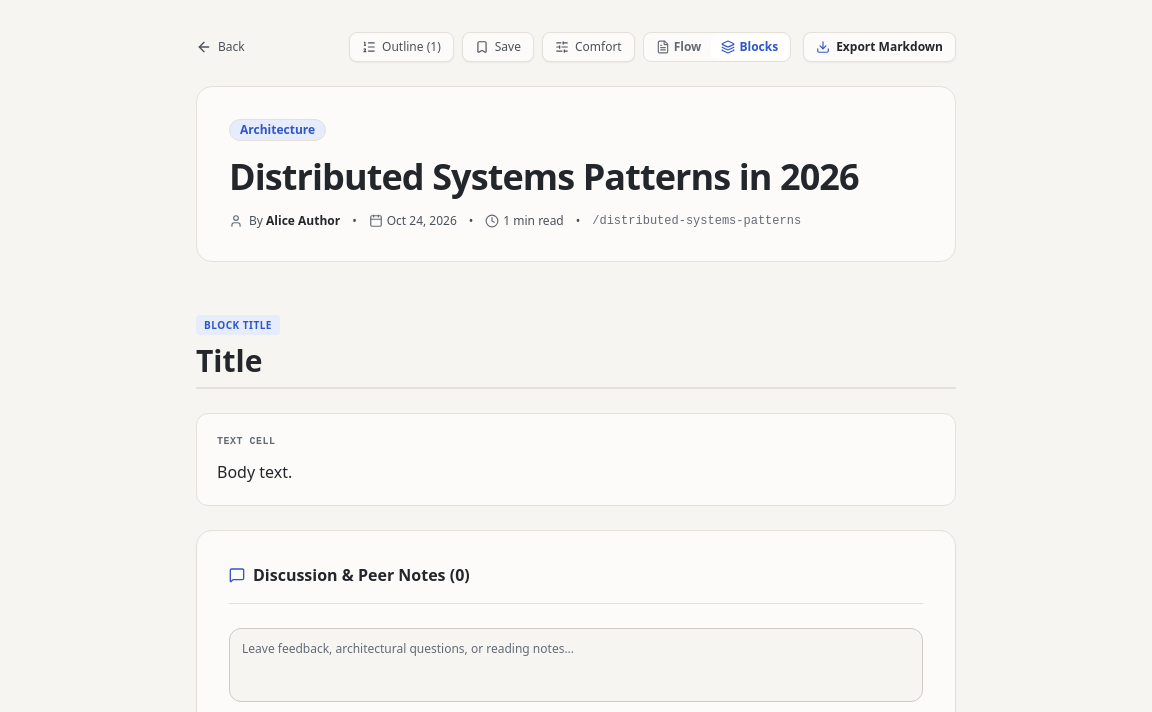
it: Phase C & E: Knowledge Catalog & Reader View Suite › ReaderView Component › toggles comfort preferences bar and typeface
This screenshot has width=1152, height=712.
Click the button titled "Reading Preferences". click: (588, 47)
box: x1=542 y1=32 x2=635 y2=62
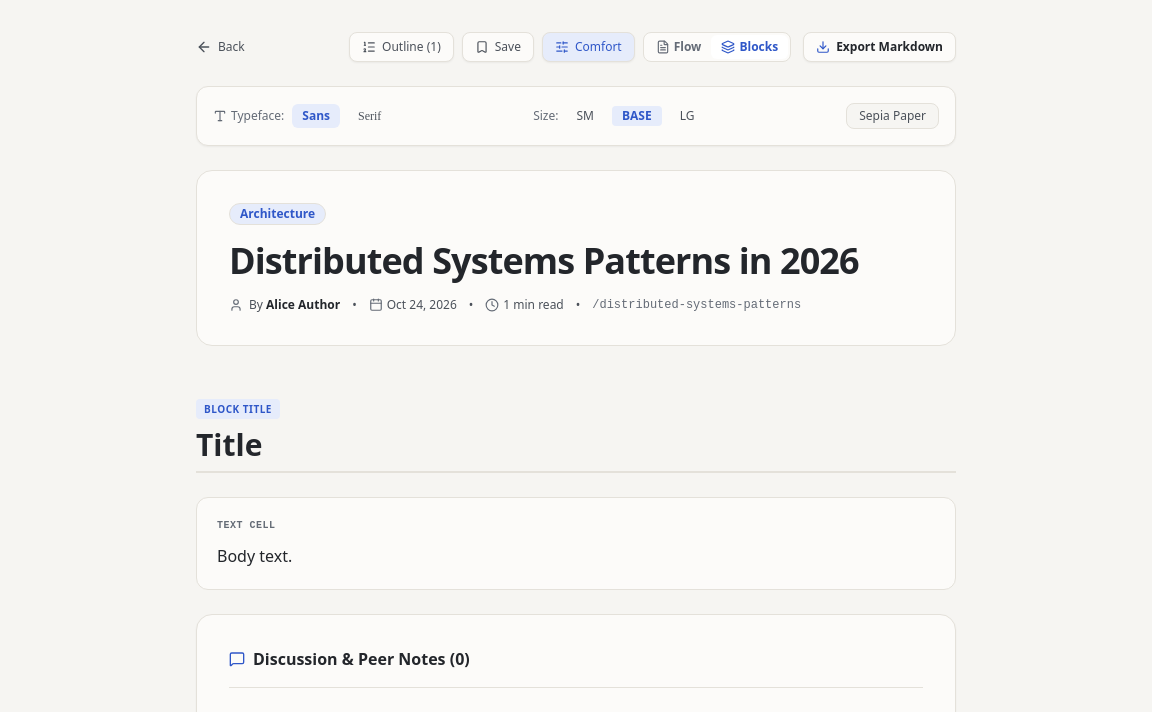
expect the button "Serif" is shown: met
Click the button "Serif". click: (370, 116)
box: x1=348 y1=104 x2=391 y2=128
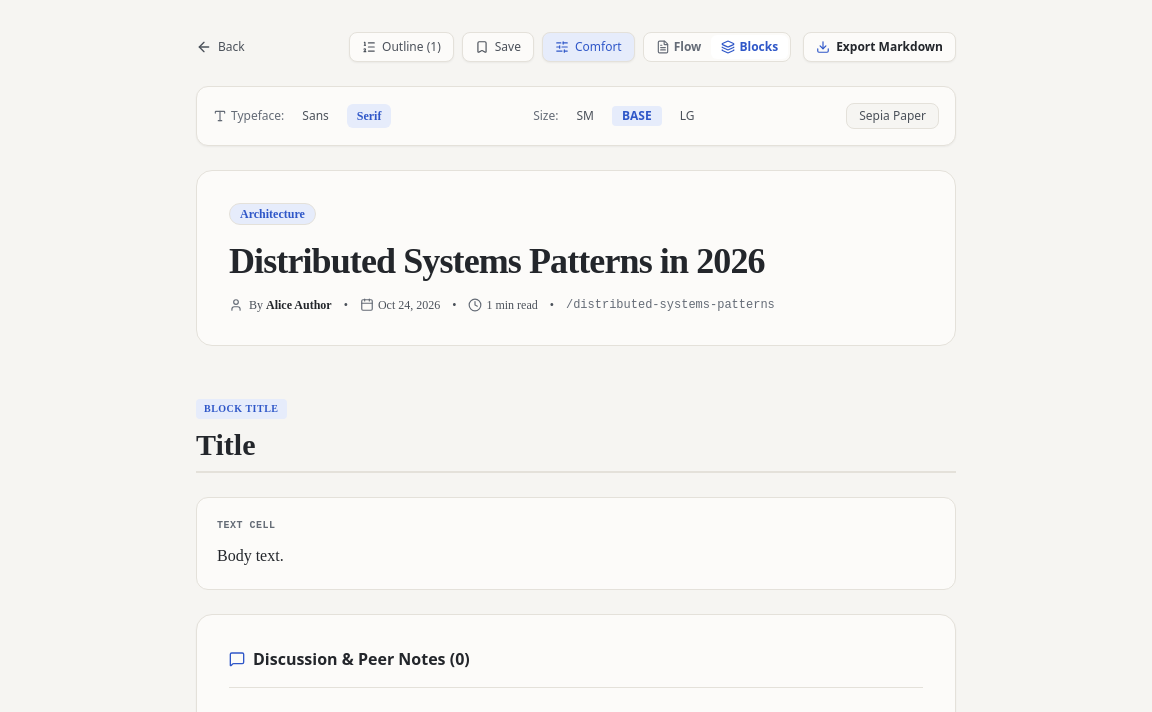
expect the button "Sepia Paper" is shown: met
Click the button "Sepia Paper". click: (893, 116)
box: x1=846 y1=103 x2=939 y2=129
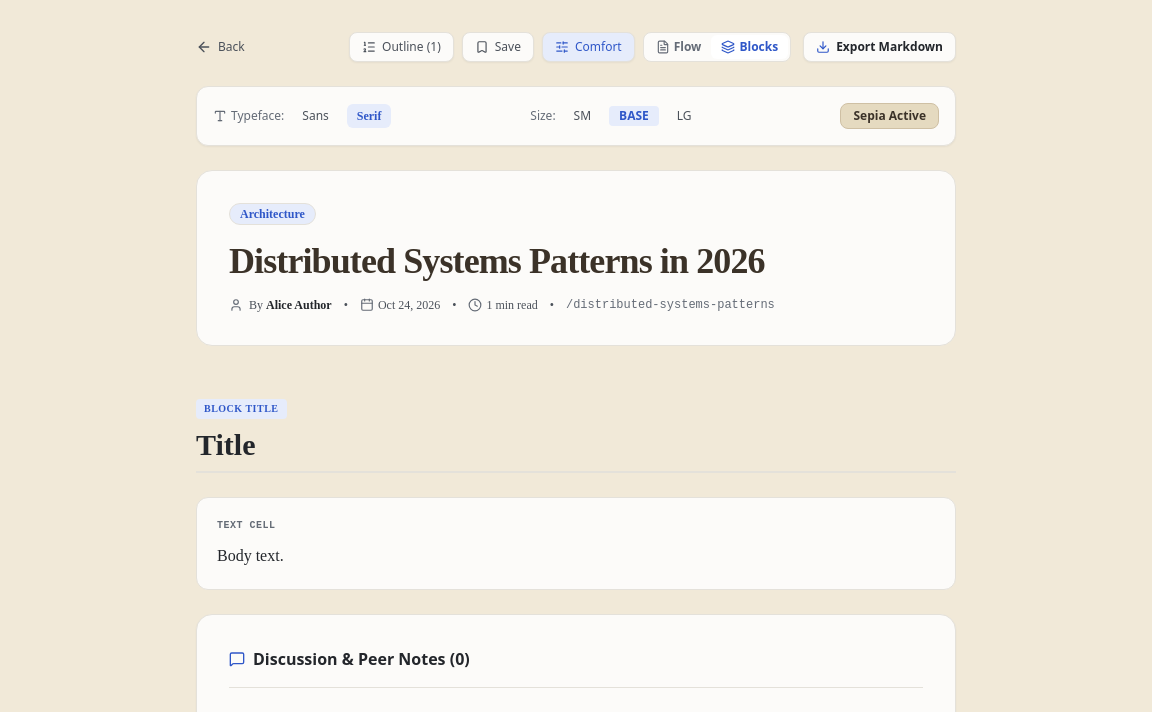
expect the button "Sepia Active" is shown: met, box x1=840 y1=103 x2=939 y2=129
